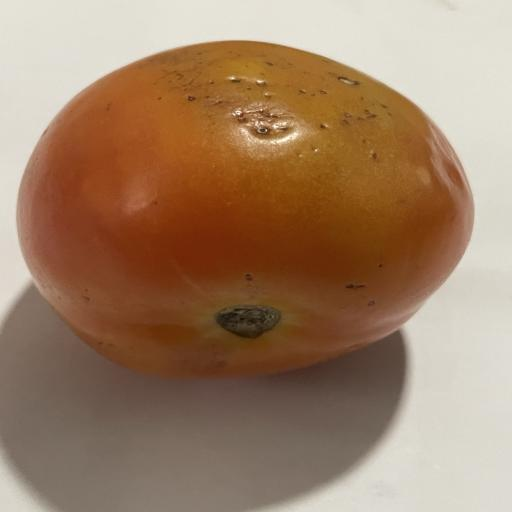unripe: (17, 41, 473, 377)
